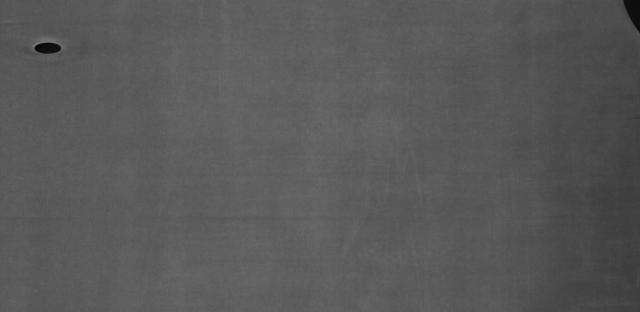crescent_gap: (618, 1, 640, 33)
punching_hole: (29, 35, 68, 60)
